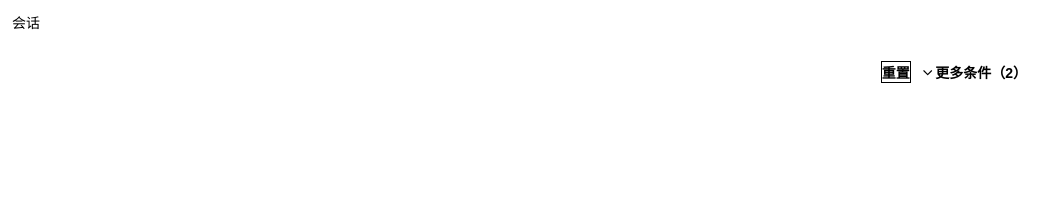
Scenario: FlareFilterBar › folds the less used fields behind a disclosure that says how many hold a value
This screenshot has width=1048, height=199.
Expected: the number of elements with class "flare-form-field" is 1, [12,12,1036,61]
Click the button with class "flare-filter-bar__toggle" at [973, 72], box [911,61,1036,83]
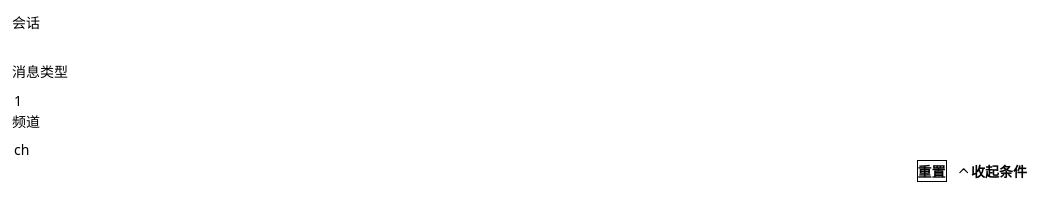
Expected: the number of elements with class "flare-form-field" is 3, [12,12,1036,61]; [12,61,1036,111]; [12,111,1036,160]
Expected: the button with class "flare-filter-bar__toggle" reads "收起条件"
Expected: the button with class "flare-filter-bar__toggle" is expanded
Click the button with class "flare-filter-bar__toggle" at [991, 171], box [947,160,1036,182]
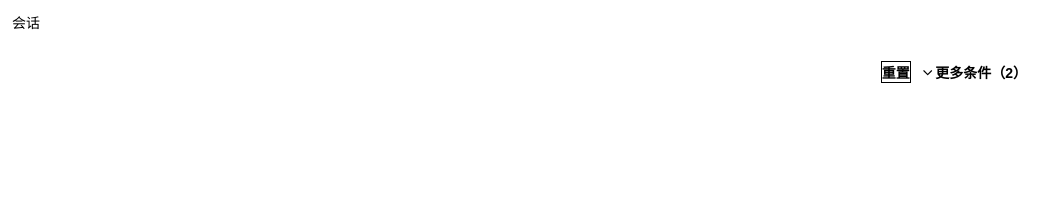
Expected: the number of elements with class "flare-form-field" is 1, [12,12,1036,61]
